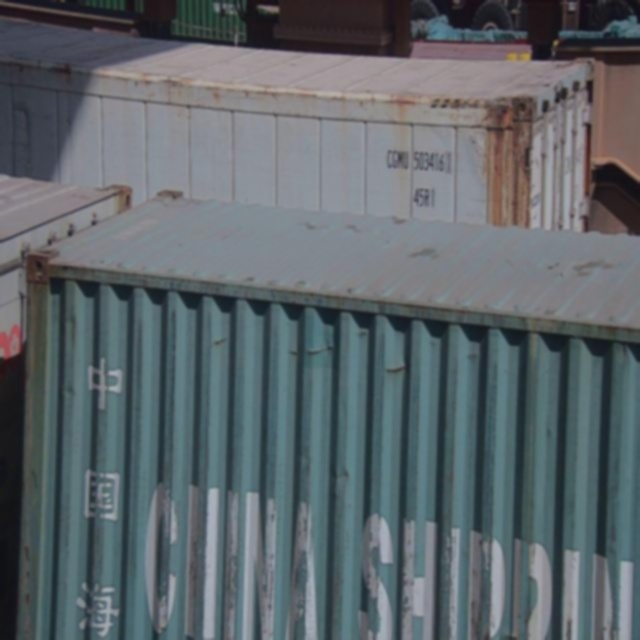Hole: (284, 327, 343, 373), (386, 352, 412, 387), (208, 327, 236, 358)
Rusty: (479, 86, 540, 220)
